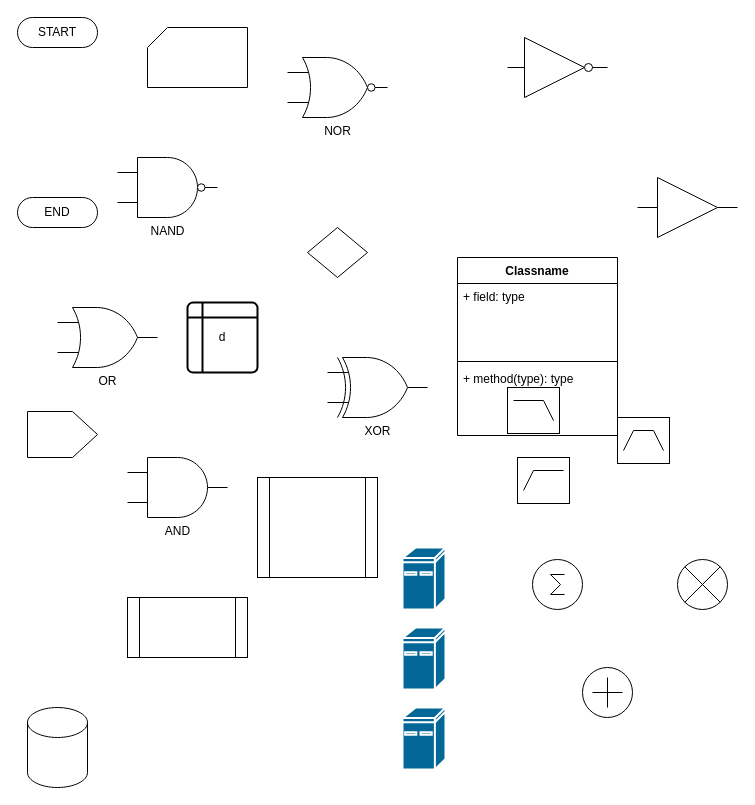
Image size: 755x805. Some labels were removed from this diagram. Each missing label, with the centre of its shape:
"BUFFER" belongs at pixel 687 207.
"IF" belongs at pixel 337 252.
"INVERT" belongs at pixel 557 67.
"x t z" belongs at pixel 317 527.
